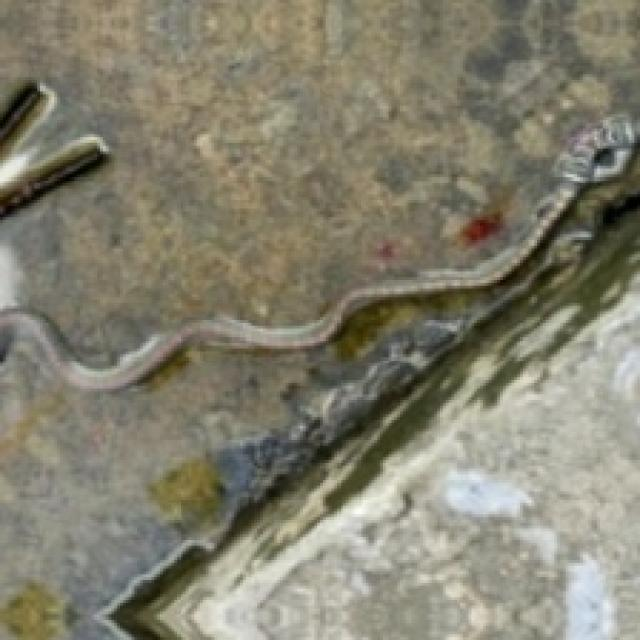paradise tree snake: (0, 114, 631, 389)
